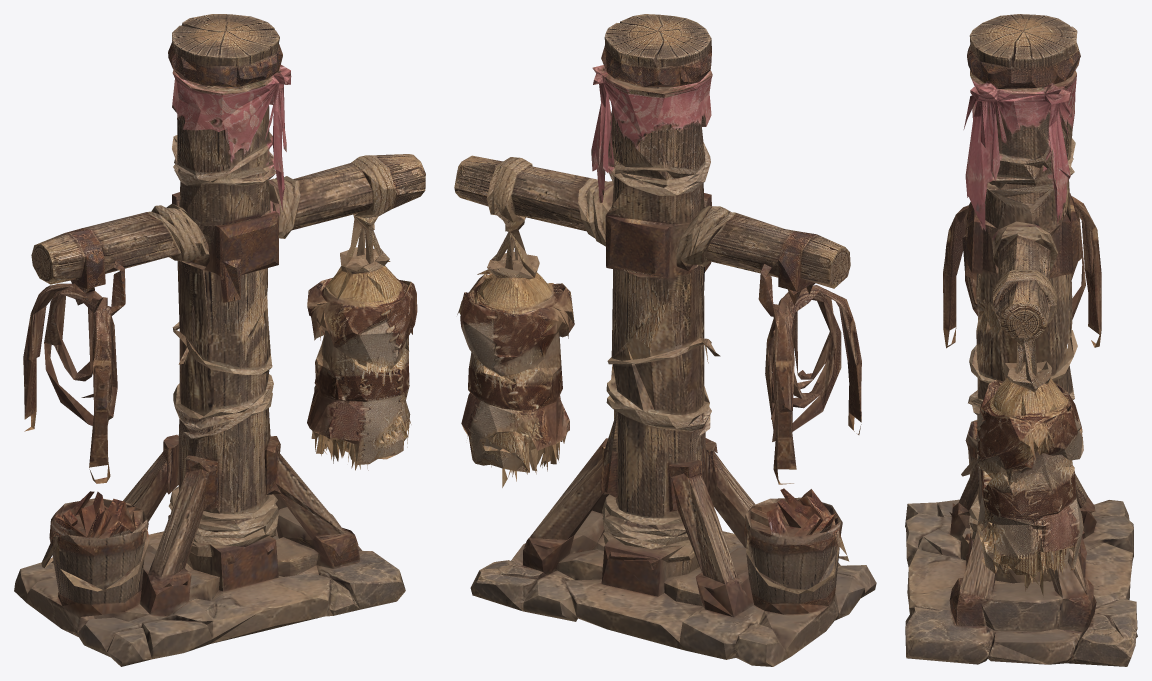
Rendered from training-post.glb.
The picture shows the model from 3 angles, left to right: view 1: azimuth 30°, elevation 25°; view 2: azimuth 150°, elevation 25°; view 3: azimuth 270°, elevation 25°; orthographic projection. The views are drawn at different scales.
Visible parts, largest first — view 1: output_unwrapped; view 2: output_unwrapped; view 3: output_unwrapped.
Part boxes in pixels (x1,y1,x2,y2): output_unwrapped: (14, 14, 425, 666); output_unwrapped: (454, 14, 876, 666); output_unwrapped: (905, 14, 1137, 666).
Bounding box in the file's own units: 1.28 × 1.8 × 0.6663.
Materials: 1 (1 with a texture image).
